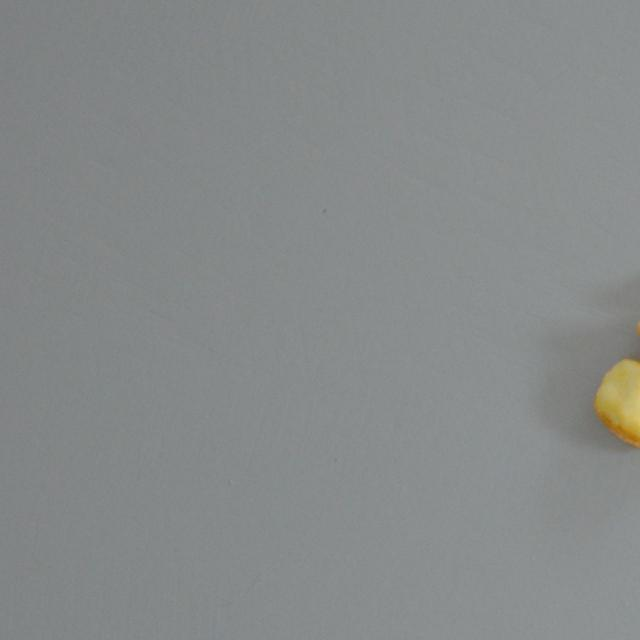pelicula: (592, 358, 640, 451)
